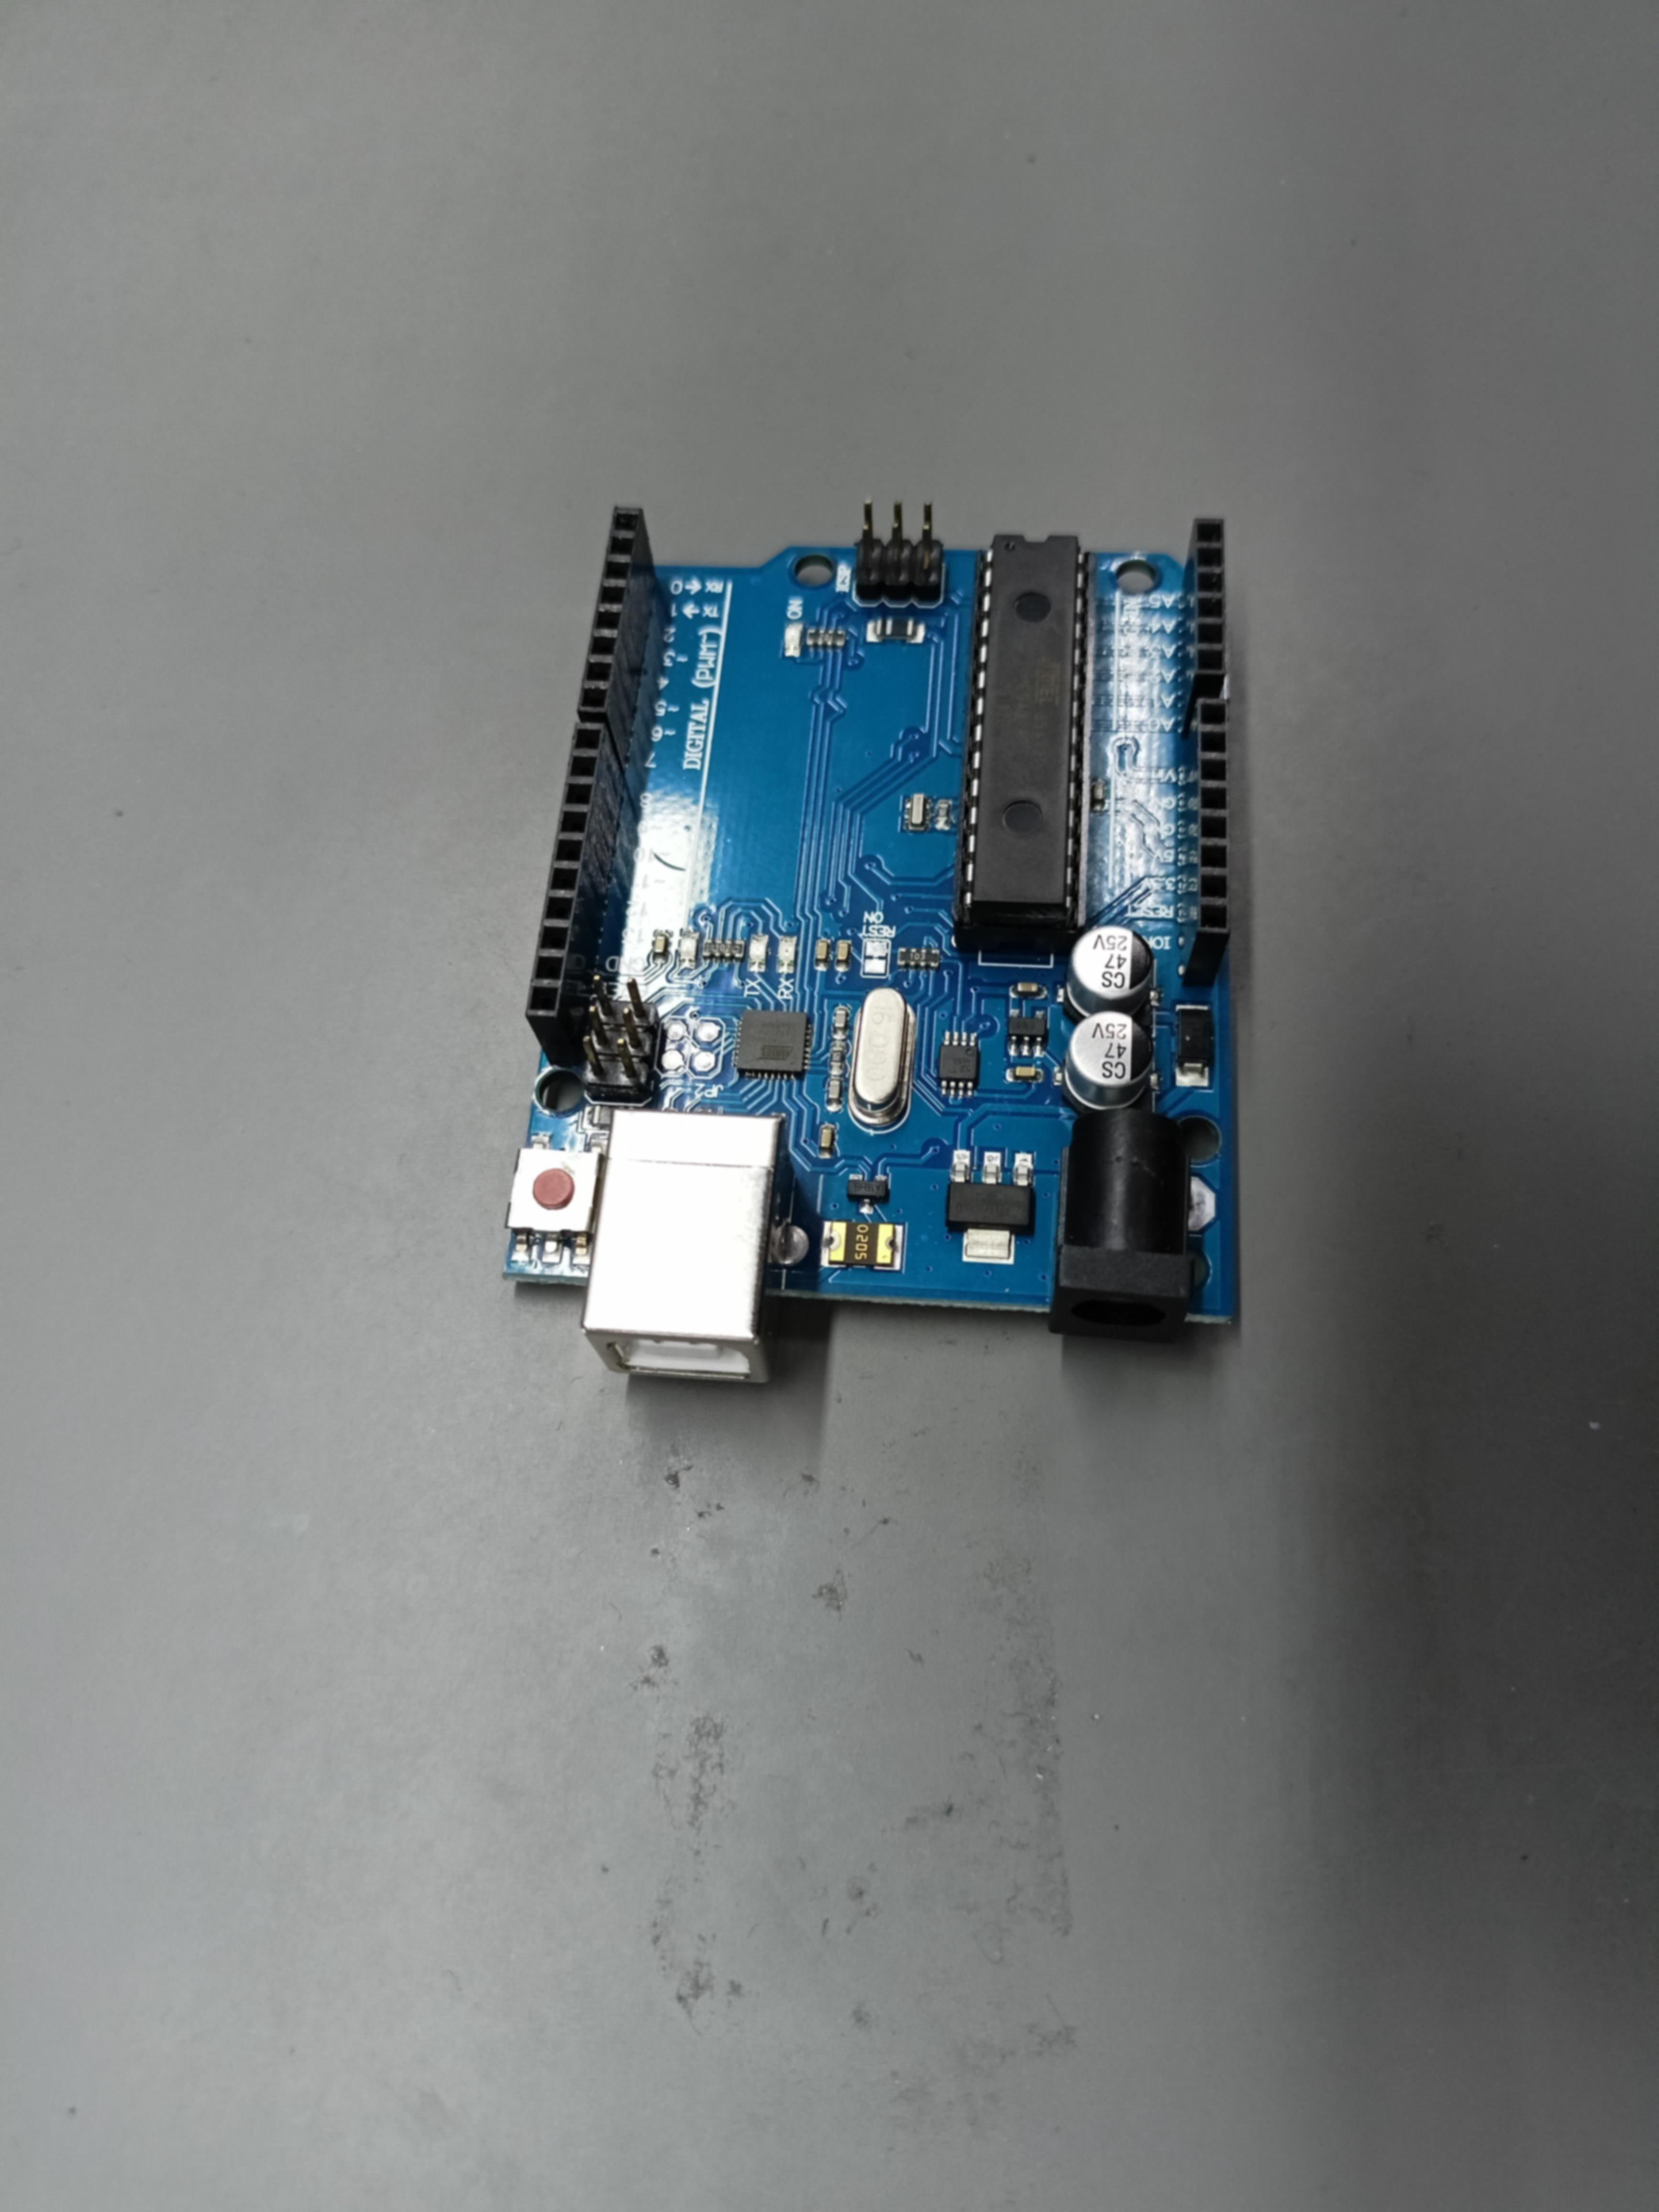ATmega328 chip: (951, 535, 1096, 956)
Arduino board: (504, 500, 1232, 1385)
USB: (580, 1108, 795, 1383)
capacitor: (1063, 925, 1154, 1035), (1061, 1012, 1154, 1118)
pins: (525, 723, 624, 1068), (577, 507, 657, 775), (1180, 698, 1230, 988), (1180, 519, 1225, 742)
resistor: (702, 939, 746, 961), (897, 948, 939, 970), (807, 629, 845, 646)
